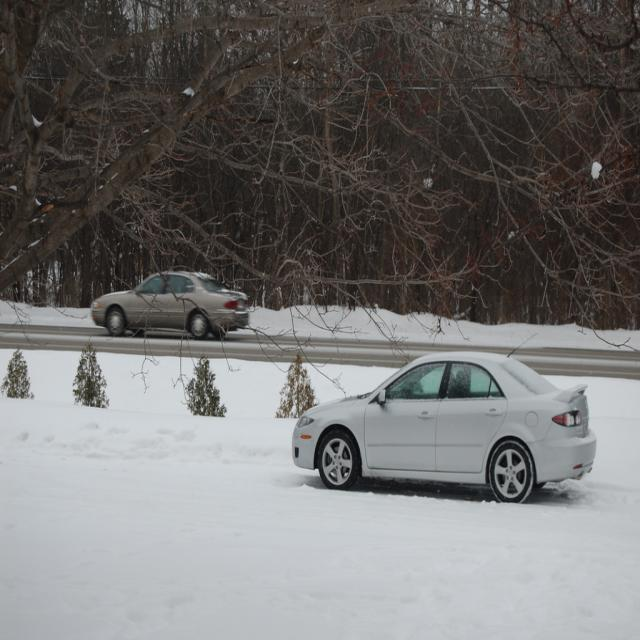car: (283, 344, 591, 504)
